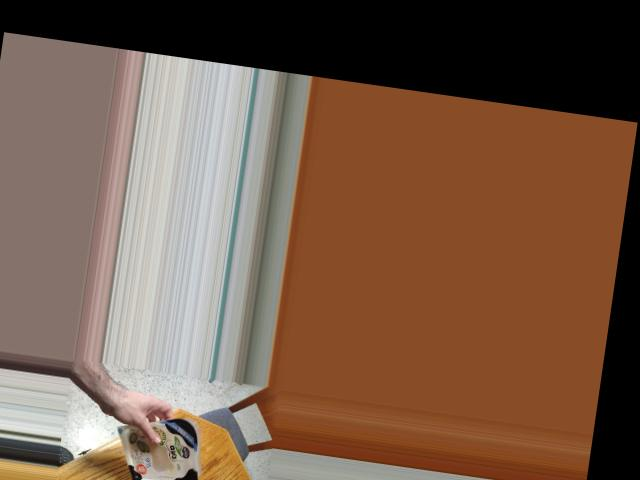cheese: (117, 421, 207, 480)
